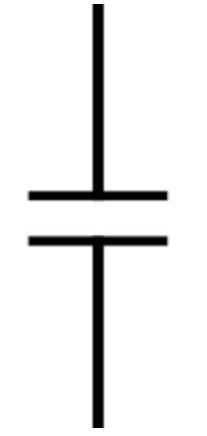Capacitor: (15, 139, 190, 273)
